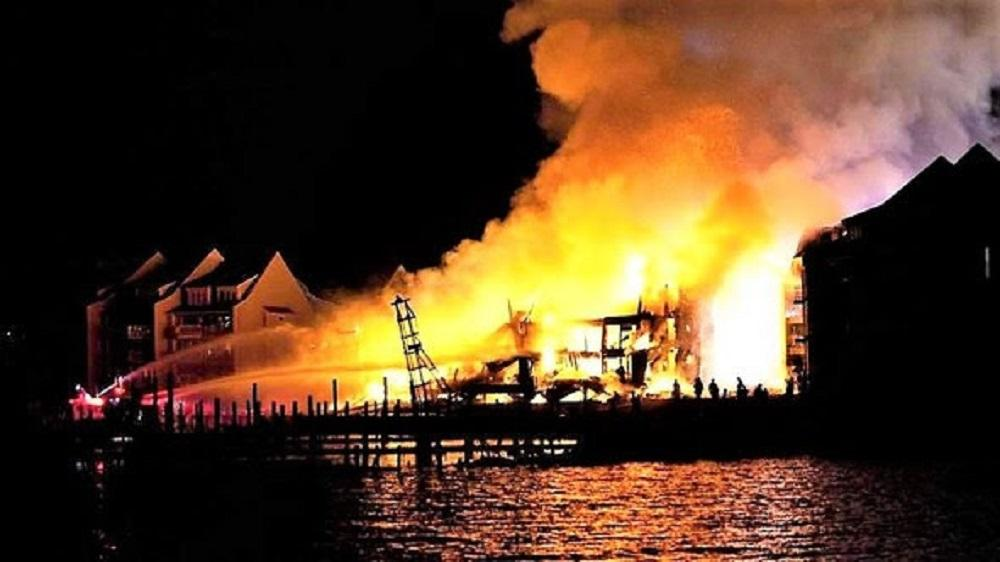Fire: (339, 160, 821, 400)
